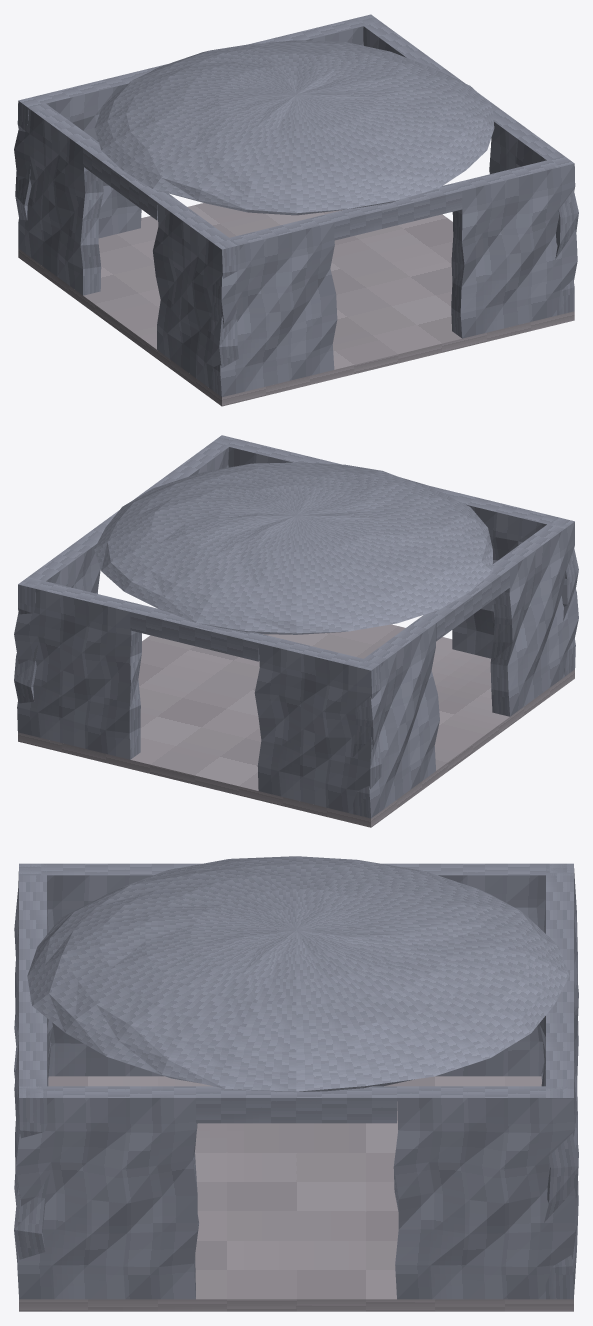
The model's file is cave-and-crystal-networks-domed-cavern-2e3066ca.glb.
3 views of the same model, one above another, from view 1: azimuth 30°, elevation 25°; view 2: azimuth 150°, elevation 25°; view 3: azimuth 270°, elevation 25° (orthographic). The views are drawn at different scales.
Parts seen in each view (by area): view 1: domed-cavern; view 2: domed-cavern; view 3: domed-cavern.
Part boxes in pixels (left/top/right/bottom): domed-cavern: left=14, top=14, right=578, bottom=406; domed-cavern: left=14, top=435, right=578, bottom=827; domed-cavern: left=14, top=856, right=578, bottom=1311.
Size of the model in its own units: 8.15 by 4.21 by 8.15.
2 materials, 2 textured.
